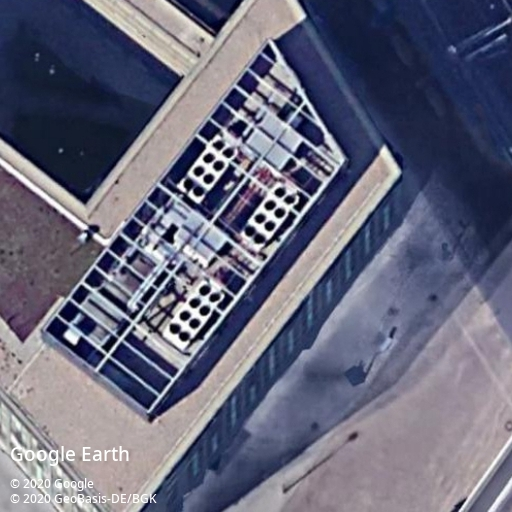Chiller: (161, 279, 225, 352), (176, 134, 237, 205), (239, 180, 300, 251)
